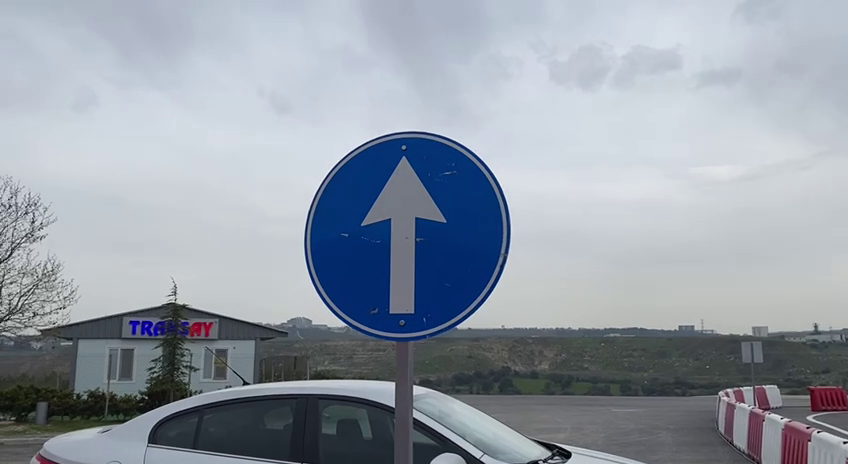forward: (300, 125, 517, 342)
